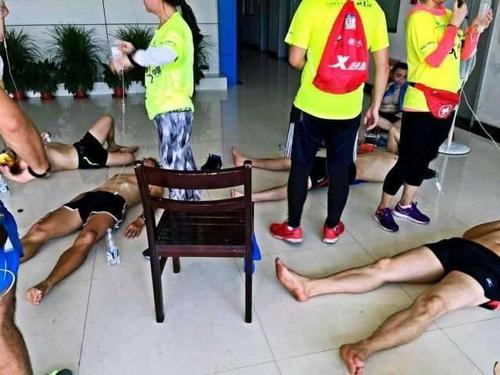fall: (217, 123, 390, 214)
